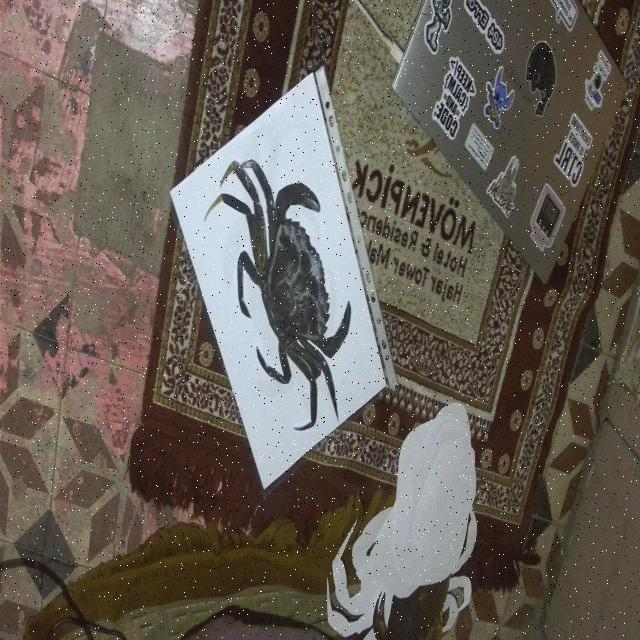European_Green_Crab: (205, 108, 375, 466)
